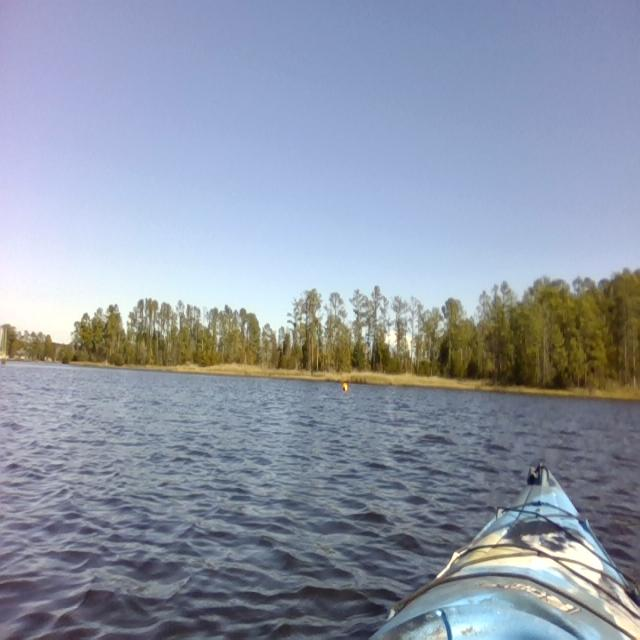Buoy: (340, 375, 350, 398)
